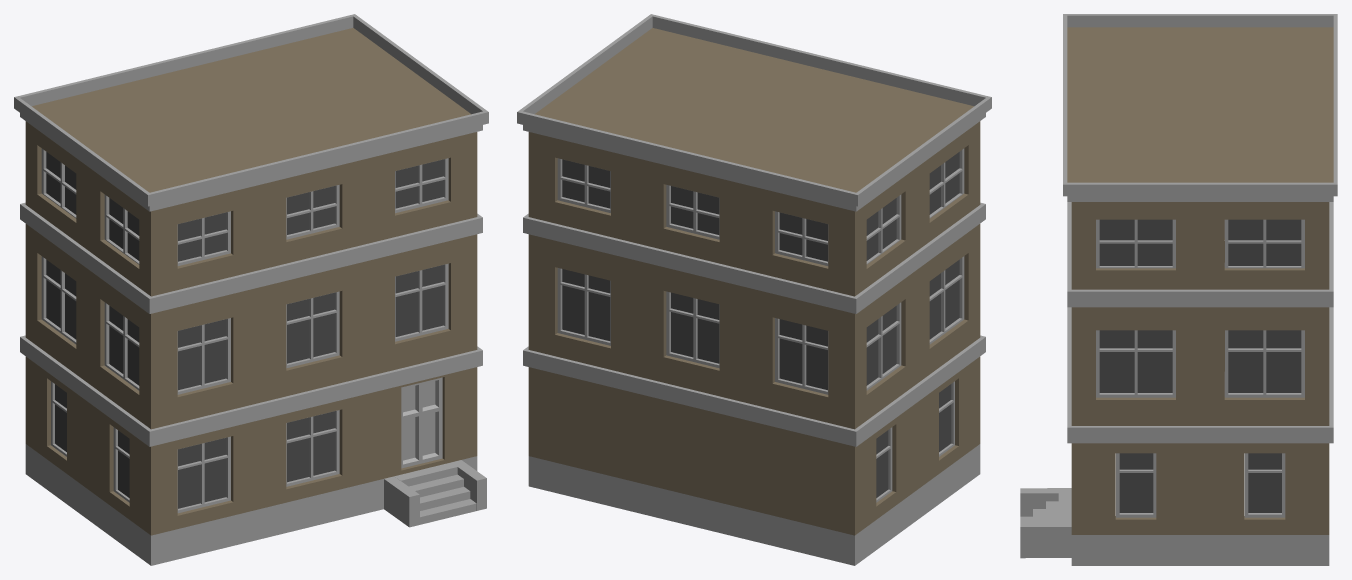
Rendered from Buiding_7.fbx.
3 views of the same model, side by side, from view 1: azimuth 30°, elevation 25°; view 2: azimuth 150°, elevation 25°; view 3: azimuth 270°, elevation 25° (orthographic). The views are drawn at different scales.
Parts seen in each view (by area): view 1: Building_7; view 2: Building_7; view 3: Building_7.
Boxes of the visible parts, x1,y1,x2,y2 form: Building_7: (14, 14, 488, 565); Building_7: (517, 14, 991, 565); Building_7: (1020, 14, 1337, 565).
Bounding box in the file's own units: 4700 × 4950 × 3700.
